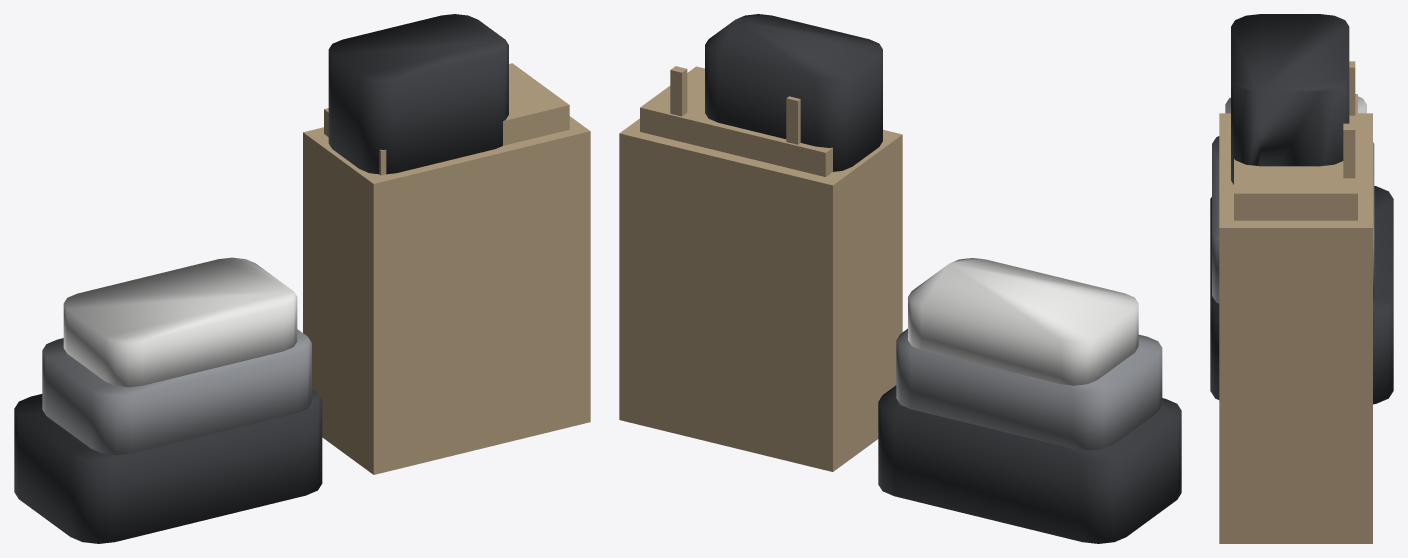
3 views of the same model, side by side, from view 1: azimuth 30°, elevation 25°; view 2: azimuth 150°, elevation 25°; view 3: azimuth 270°, elevation 25° (orthographic). The views are drawn at different scales.
Parts seen in each view (by area): view 1: root; view 2: root; view 3: root.
Boxes of the visible parts, left/top/right/bottom form: root: left=14, top=14, right=590, bottom=543; root: left=619, top=14, right=1181, bottom=543; root: left=1210, top=14, right=1393, bottom=543.
Size of the model in its own units: 0.6568 by 0.4755 by 0.189.
